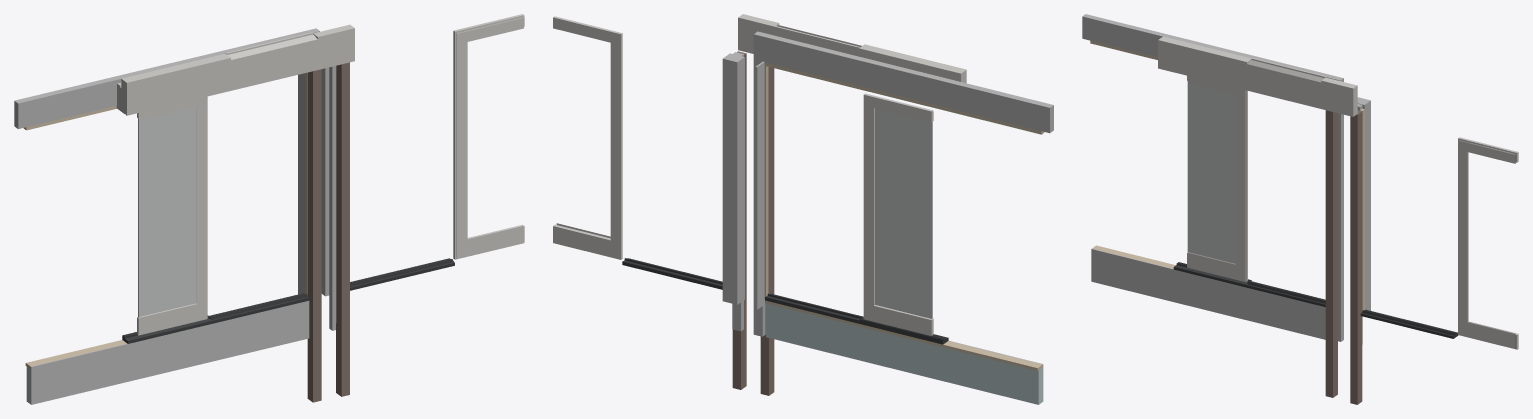
The picture shows the model from 3 angles, left to right: view 1: azimuth 30°, elevation 25°; view 2: azimuth 150°, elevation 25°; view 3: azimuth 330°, elevation 25°; orthographic projection. The views are drawn at different scales.
Size of the model in its own units: 5.91 by 4.15 by 0.4334.
